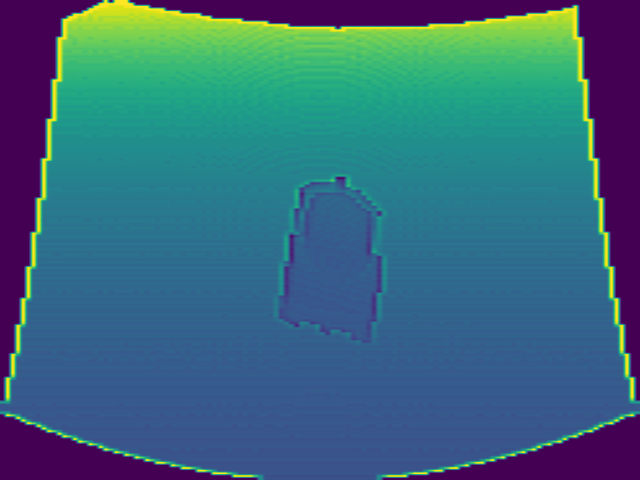car_0027: (274, 176, 389, 348)
